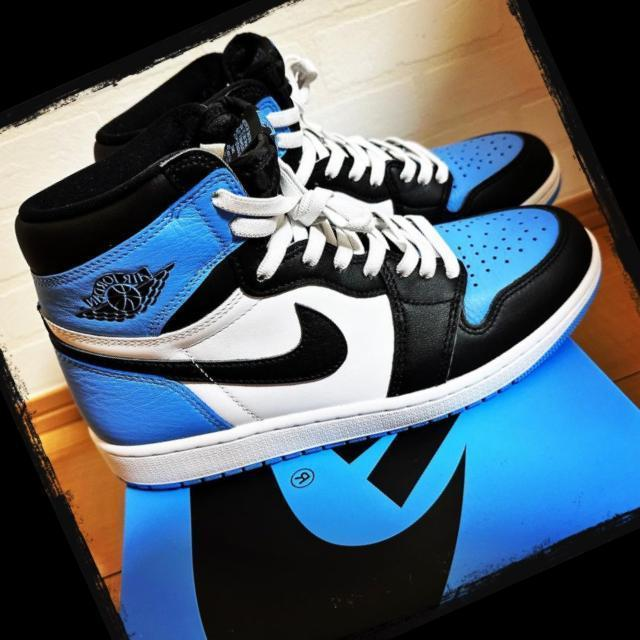nike original jordan 1: (0, 0, 640, 549), (54, 0, 572, 372)
